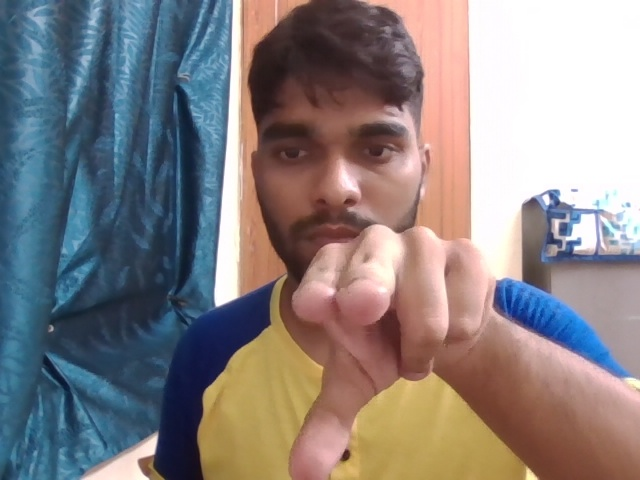No: (257, 192, 545, 476)
